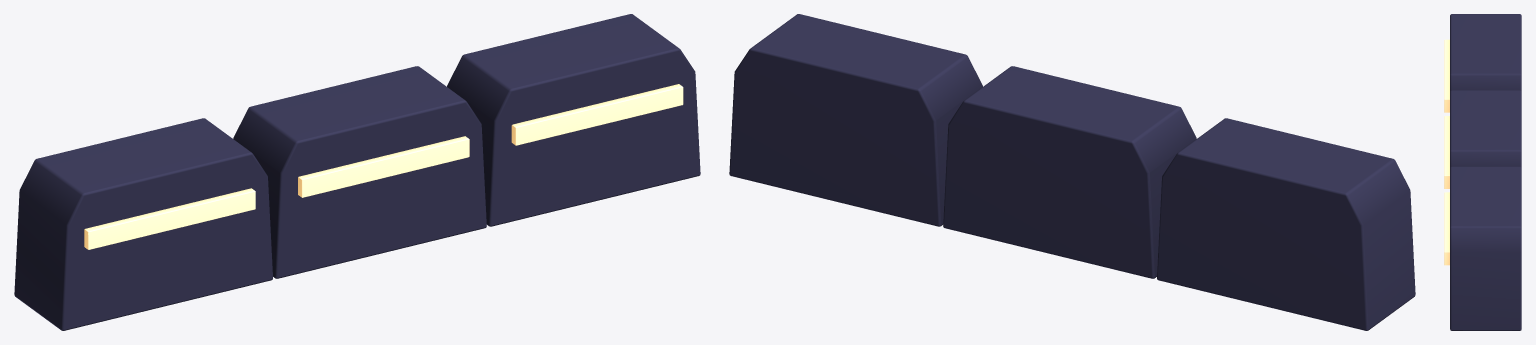
File: speedway_night_barrier.glb
3 renders of one model, left to right at view 1: azimuth 30°, elevation 25°; view 2: azimuth 150°, elevation 25°; view 3: azimuth 270°, elevation 25°, orthographic. The views are drawn at different scales.
Parts seen in each view (by area): view 1: Track barrier; view 2: Track barrier; view 3: Track barrier.
Boxes of the visible parts, x1=… form: Track barrier: x1=14, y1=14, x2=700, y2=330; Track barrier: x1=729, y1=14, x2=1415, y2=330; Track barrier: x1=1444, y1=14, x2=1521, y2=330.
Size of the model in its own units: 3.62 by 0.72 by 0.519.
